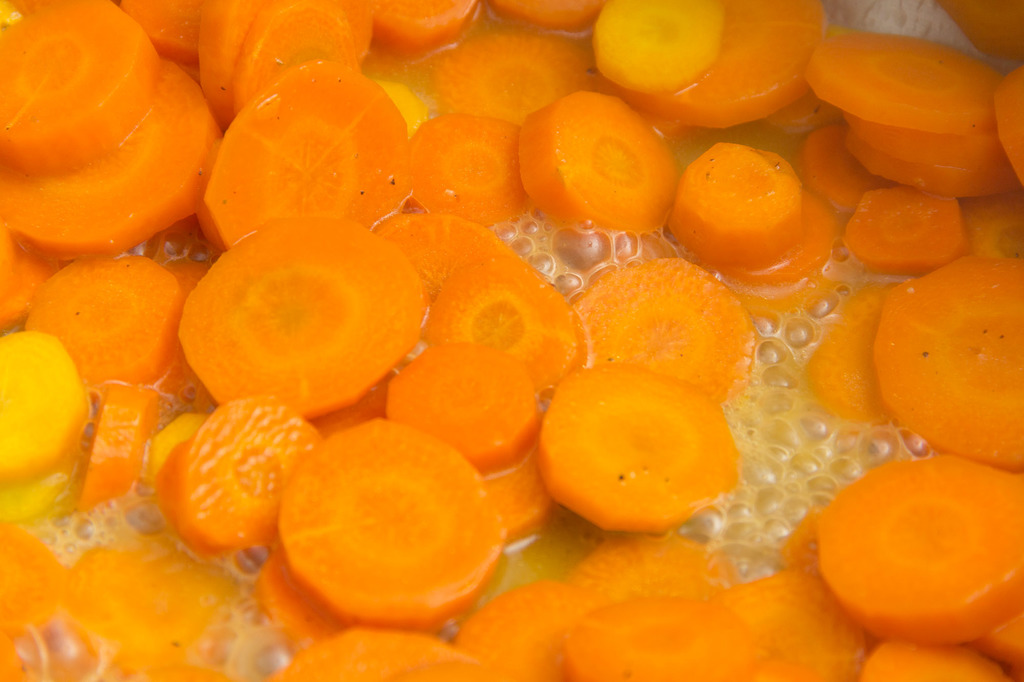Carrot: (0, 0, 1024, 681)
